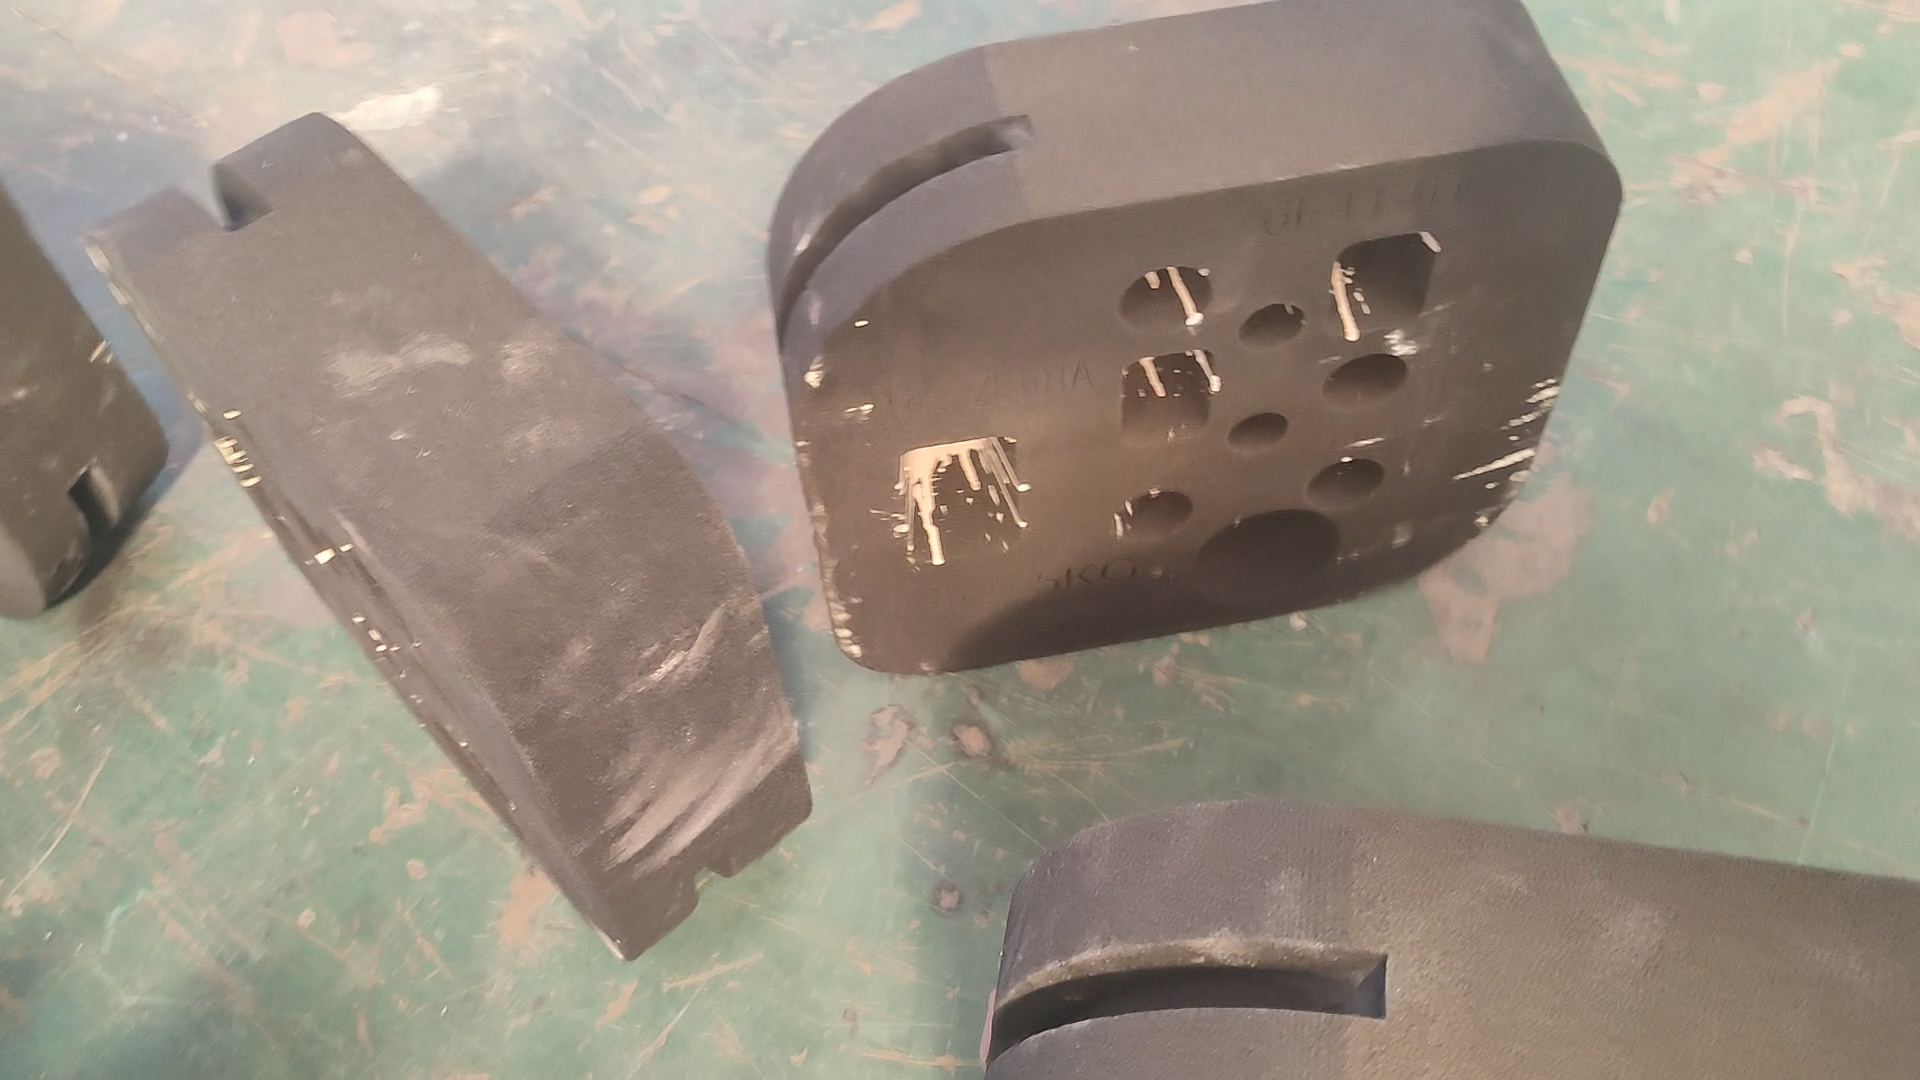pouring hole: (1191, 508, 1344, 603), (431, 721, 524, 843)
